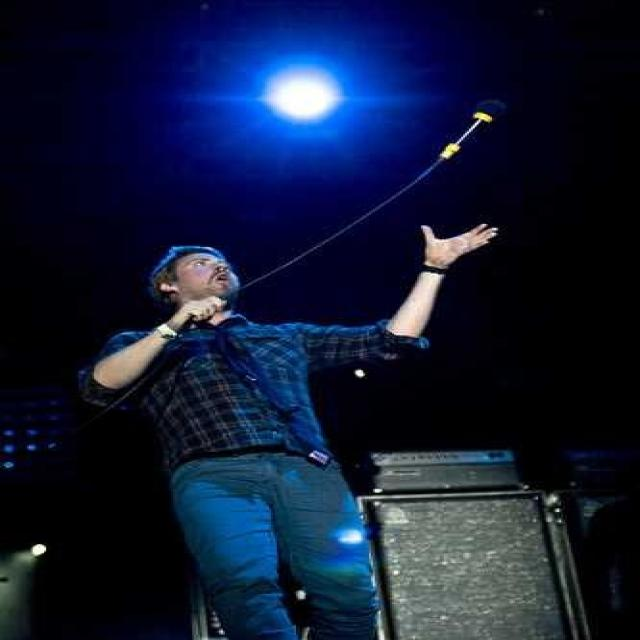microphone: (438, 99, 506, 162)
